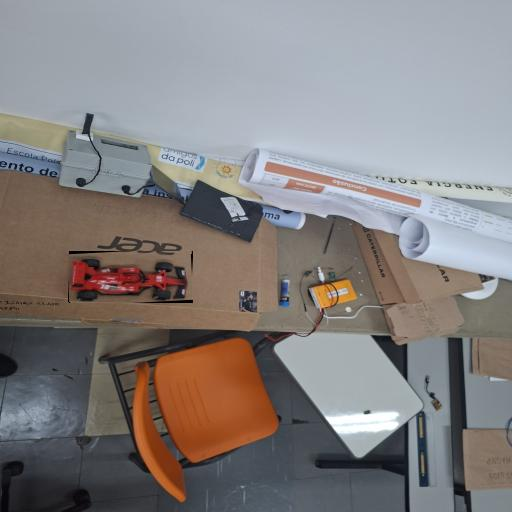carro: (69, 255, 192, 302)
